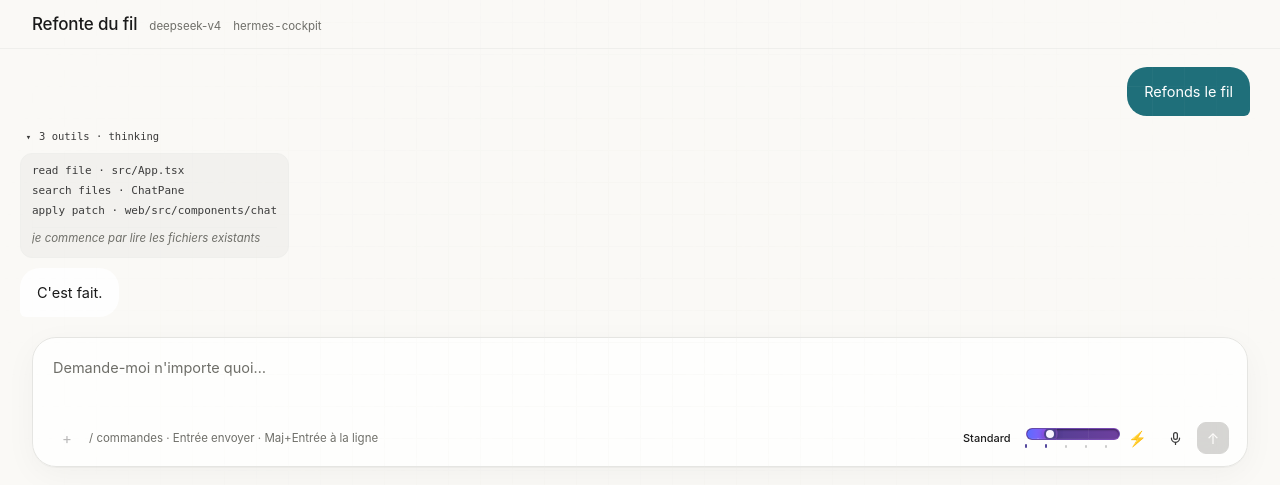
Test case: ChatPane — bloc d'activité › se referme au clic même quand il est ouvert d'office
The image size is (1280, 485).
Note: Un bloc ouvert d'office doit pouvoir être refermé : un clic suffit.
Click the button "▾ 3 outils · thinking".
click(94, 137)  # box [20, 126, 167, 147]
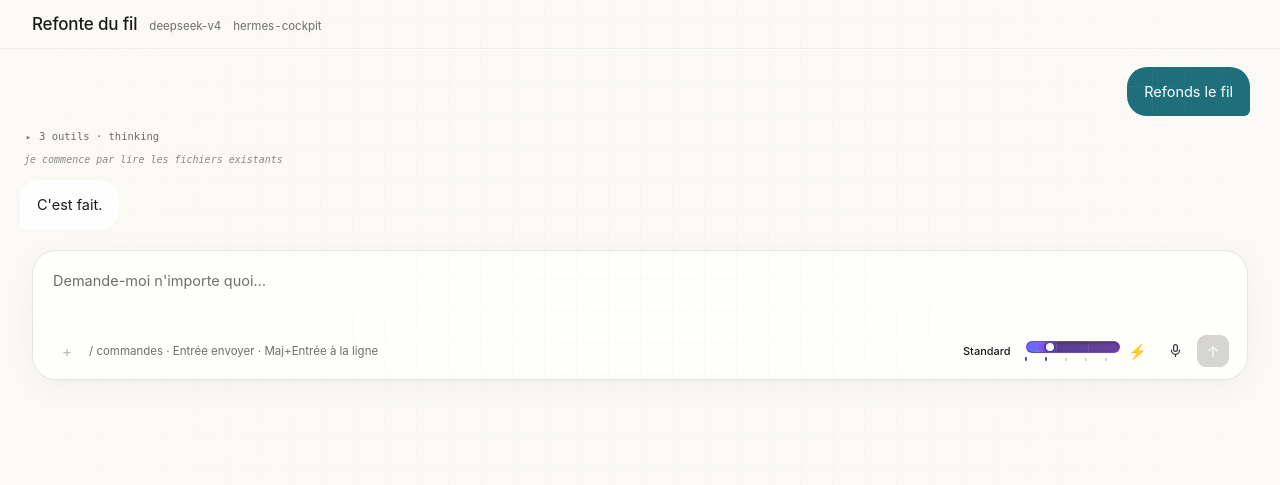
Now the button "3 outils · thinking" is collapsed
Now the text with class "activity__thinking" is gone
Note: Et se rouvrir au clic suivant.
Click the button "3 outils · thinking".
click(99, 136)  # box [20, 126, 432, 170]
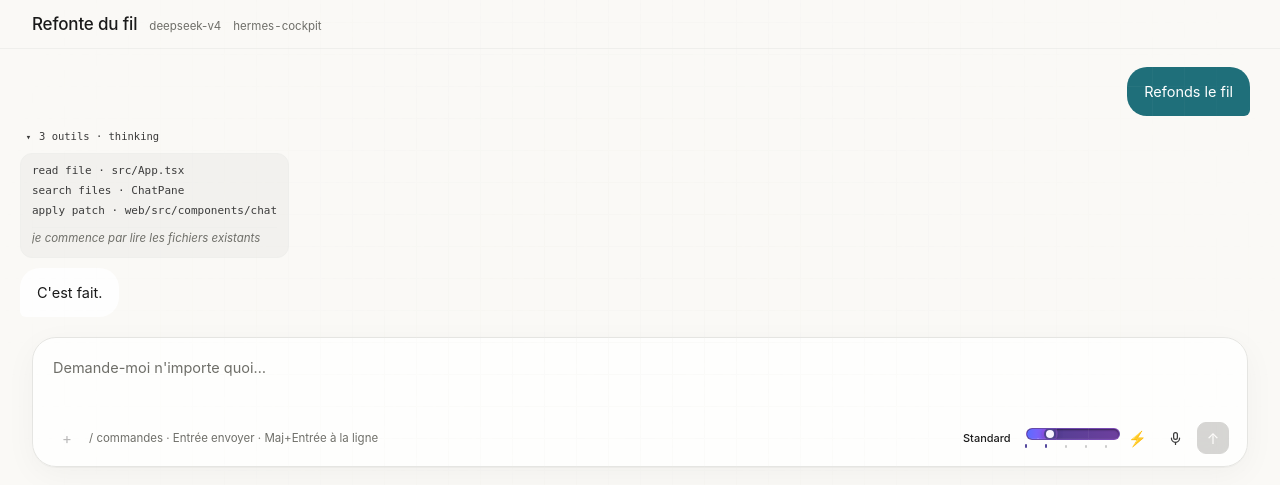
Expected: the text "je commence par lire les fichiers existants" is shown, [32, 227, 277, 248]
Now the button "▾ 3 outils · thinking" is expanded, box [20, 126, 167, 147]
